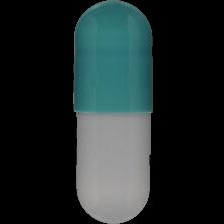54868-4826: (0, 0, 224, 224)
